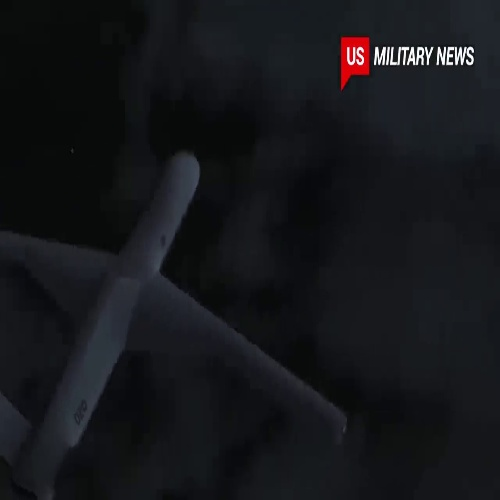uav621: (1, 149, 354, 500)
